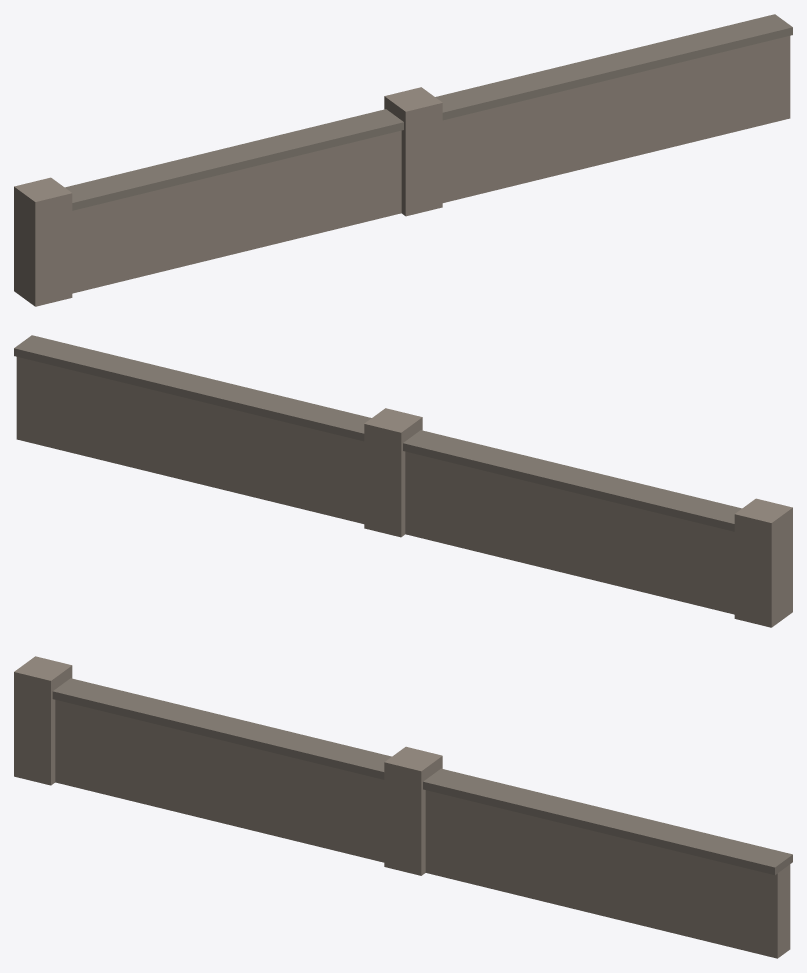
File: estate_wall.glb
The picture shows the model from 3 angles, top to bottom: view 1: azimuth 30°, elevation 25°; view 2: azimuth 150°, elevation 25°; view 3: azimuth 330°, elevation 25°; orthographic projection.
Visible parts, largest first — view 1: estate_wall; view 2: estate_wall; view 3: estate_wall.
Boxes of the visible parts, x1,y1,x2,y2 form: estate_wall: (14,14,792,306); estate_wall: (14,335,792,627); estate_wall: (14,656,792,958).
Bounding box in the file's own units: 20.5 × 2.7 × 1.
